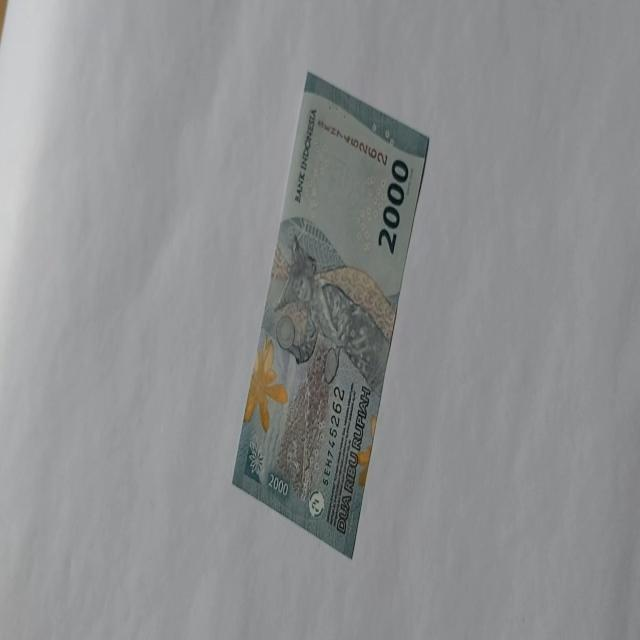dua ribu rupiah: (230, 70, 430, 559), (272, 231, 392, 392), (242, 333, 288, 433)
